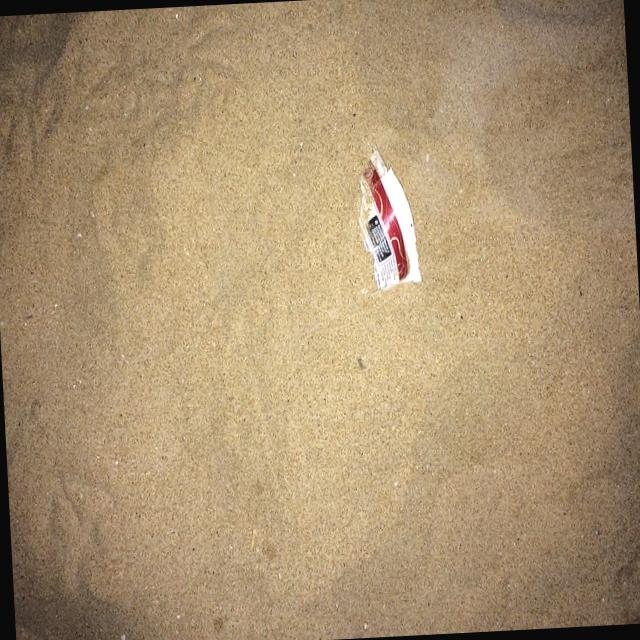Trash: (352, 142, 426, 292)
